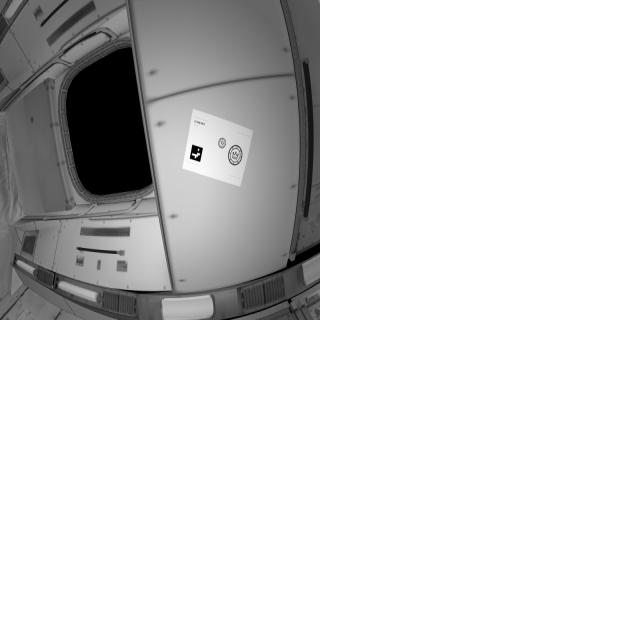coin: (229, 145, 246, 167), (218, 137, 229, 153)
